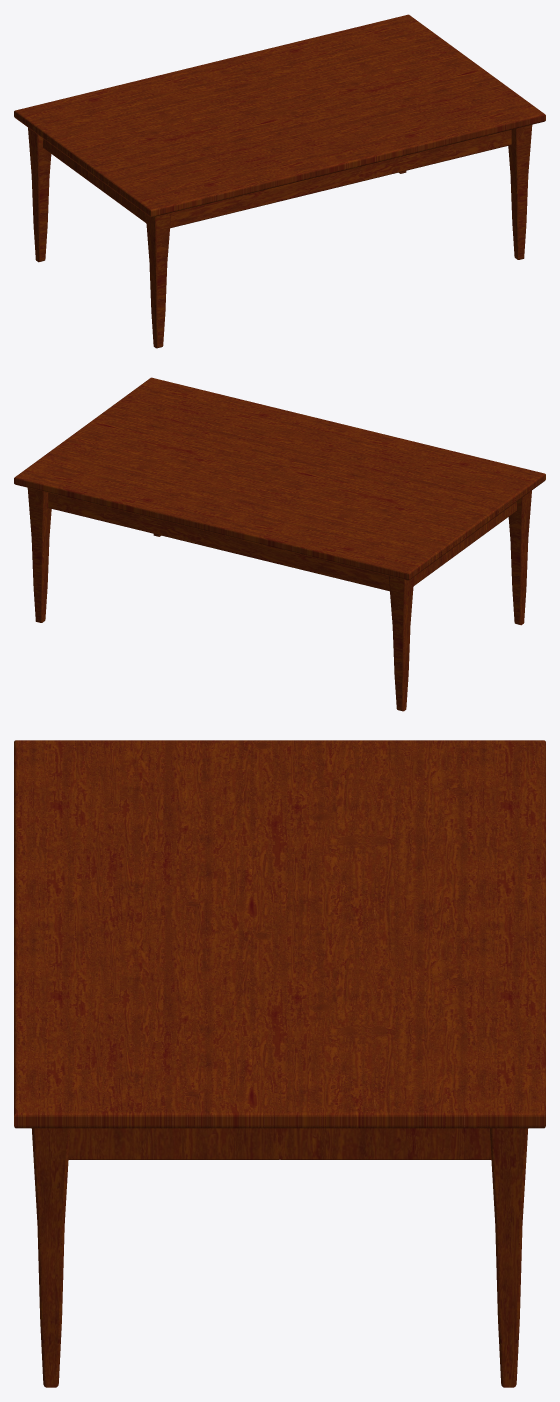
File: table.fbx
3 renders of one model, top to bottom at view 1: azimuth 30°, elevation 25°; view 2: azimuth 150°, elevation 25°; view 3: azimuth 270°, elevation 25°, orthographic. The views are drawn at different scales.
Visible parts, largest first — view 1: Cube; view 2: Cube; view 3: Cube.
Boxes of the visible parts, x1,y1,x2,y2 form: Cube: (14,14,545,348); Cube: (14,377,545,711); Cube: (14,740,545,1387).
Size of the model in its own units: 200 by 71.34 by 120.
Materials: 1 (1 with a texture image).
